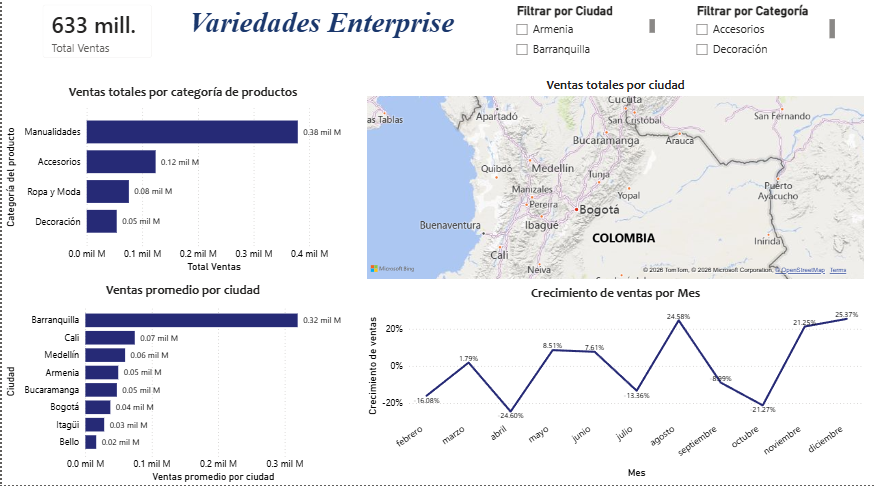

The page's visual inventory and layout, read from the dashboard file:
{"tool":"powerbi","page":{"name":"Página 1","canvas":[1280,720],"ordinal":0},"visuals":[{"type":"textbox","box":[210.6,13.5,514.4,87.2],"z":0},{"type":"barChart","title":"Ventas totales por categoría de productos","fields":{"Y":["Ventas.Total Ventas"],"Category":["Ventas.Categoría del producto"]},"box":[0,133.2,529.8,279.5],"z":1000},{"type":"lineChart","fields":{"Category":["Ventas.Fecha_Final.Variación.Jerarquía de fechas.Mes"],"Y":["Ventas.Crecimiento de ventas"]},"box":[529.8,427.3,736.1,286.8],"z":2000},{"type":"map","title":"Ventas totales por ciudad","fields":{"Size":["Ventas.Total Ventas"],"Category":["Ventas.Ciudad_Mapa"]},"box":[529.8,122.9,736.1,300],"z":3000},{"type":"cardVisual","fields":{"Data":["Ventas.Total Ventas"]},"box":[42.4,0,194.6,112.7],"z":4000},{"type":"barChart","title":"Ventas promedio por ciudad ","fields":{"Y":["Ventas.Ventas promedio por ciudad"],"Category":["Ventas.Ciudad"]},"box":[0,422.7,529.4,297.8],"z":5000},{"type":"slicer","fields":{"Values":["Ventas.Ciudad"]},"box":[740.5,10.2,216.6,90.7],"z":6000},{"type":"slicer","fields":{"Values":["Ventas.Categoría del producto"]},"box":[1003.9,10.2,218,90.7],"z":7000}]}

Visuals, with their boxes in screenshot pixels (x1, y1, x2, y2), scaled from the page's 1280x720 canvas onto the 875x486 screenshot:
textbox: (144, 9, 496, 68)
"Ventas totales por categoría de productos" barChart: (0, 90, 362, 279)
lineChart - Ventas.Fecha_Final.Variación.Jerarquía de fechas.Mes x Ventas.Crecimiento de ventas: (362, 288, 865, 482)
"Ventas totales por ciudad" map: (362, 83, 865, 285)
cardVisual - Ventas.Total Ventas: (29, 0, 162, 76)
"Ventas promedio por ciudad " barChart: (0, 285, 362, 485)
slicer - Ventas.Ciudad: (506, 7, 654, 68)
slicer - Ventas.Categoría del producto: (686, 7, 835, 68)
